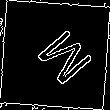M_SW: (21, 21, 89, 89)
